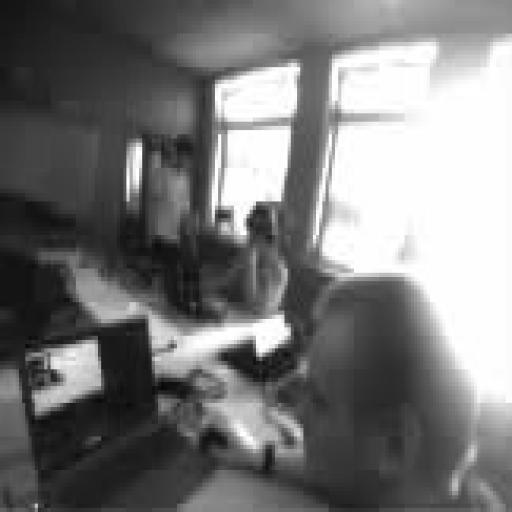human: (215, 273, 505, 511), (203, 202, 287, 314), (149, 135, 192, 302)
